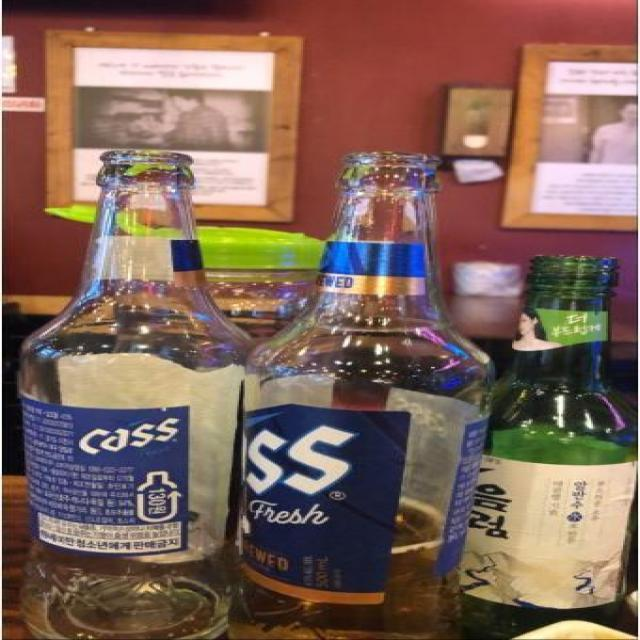beer-bottle: (20, 144, 252, 640), (270, 145, 470, 640)
soju-bottle: (452, 253, 640, 640)
